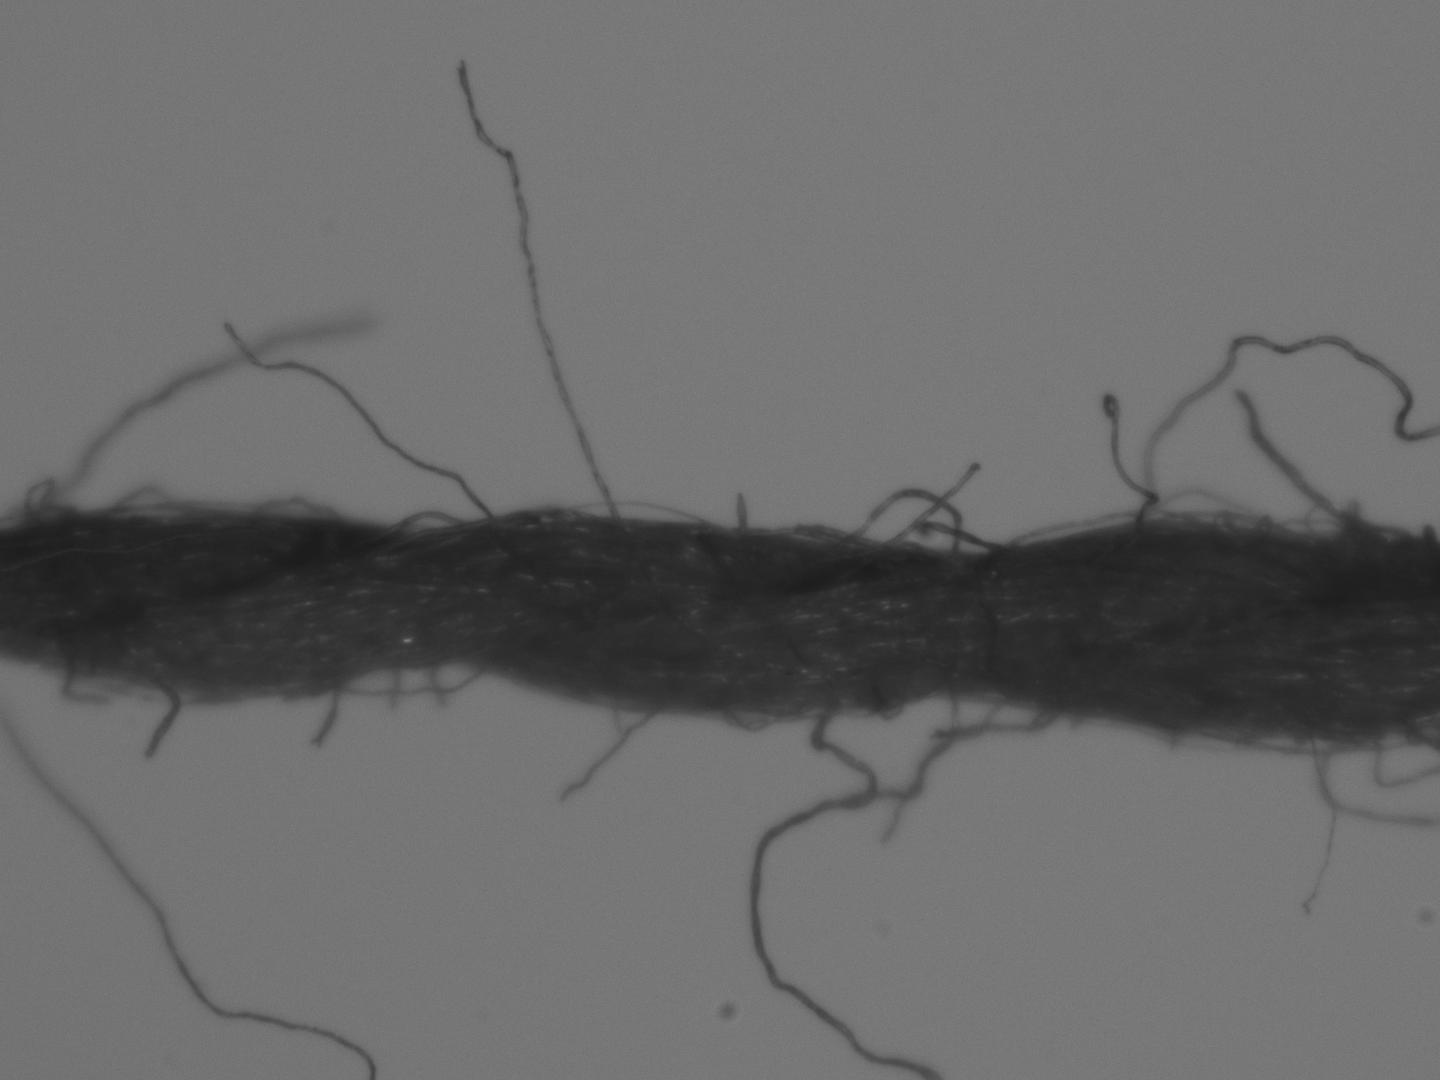loop_fiber: (829, 482, 1344, 556), (1168, 717, 1439, 832), (90, 482, 342, 524), (320, 658, 488, 702), (933, 684, 1066, 735), (534, 496, 723, 528), (0, 481, 83, 525), (376, 506, 475, 532)
protruding_fiber: (1, 695, 380, 1079), (452, 49, 622, 526), (745, 710, 942, 1079), (53, 314, 374, 505), (1134, 328, 1439, 526), (218, 323, 501, 530), (1233, 388, 1359, 543), (891, 677, 966, 838), (1096, 388, 1184, 524), (550, 708, 661, 809), (1294, 724, 1341, 918), (886, 458, 991, 543), (138, 667, 183, 754), (58, 656, 110, 711), (305, 676, 342, 745), (730, 486, 747, 534)
